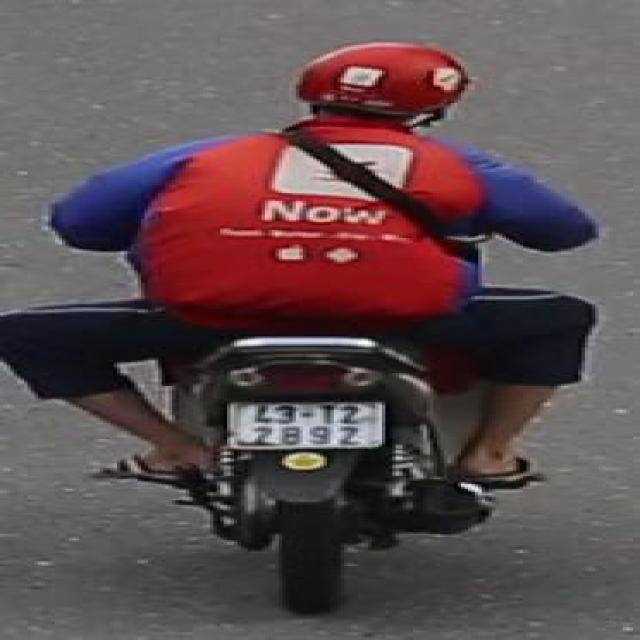LP: (218, 396, 394, 453)
helmet: (287, 35, 473, 127)
